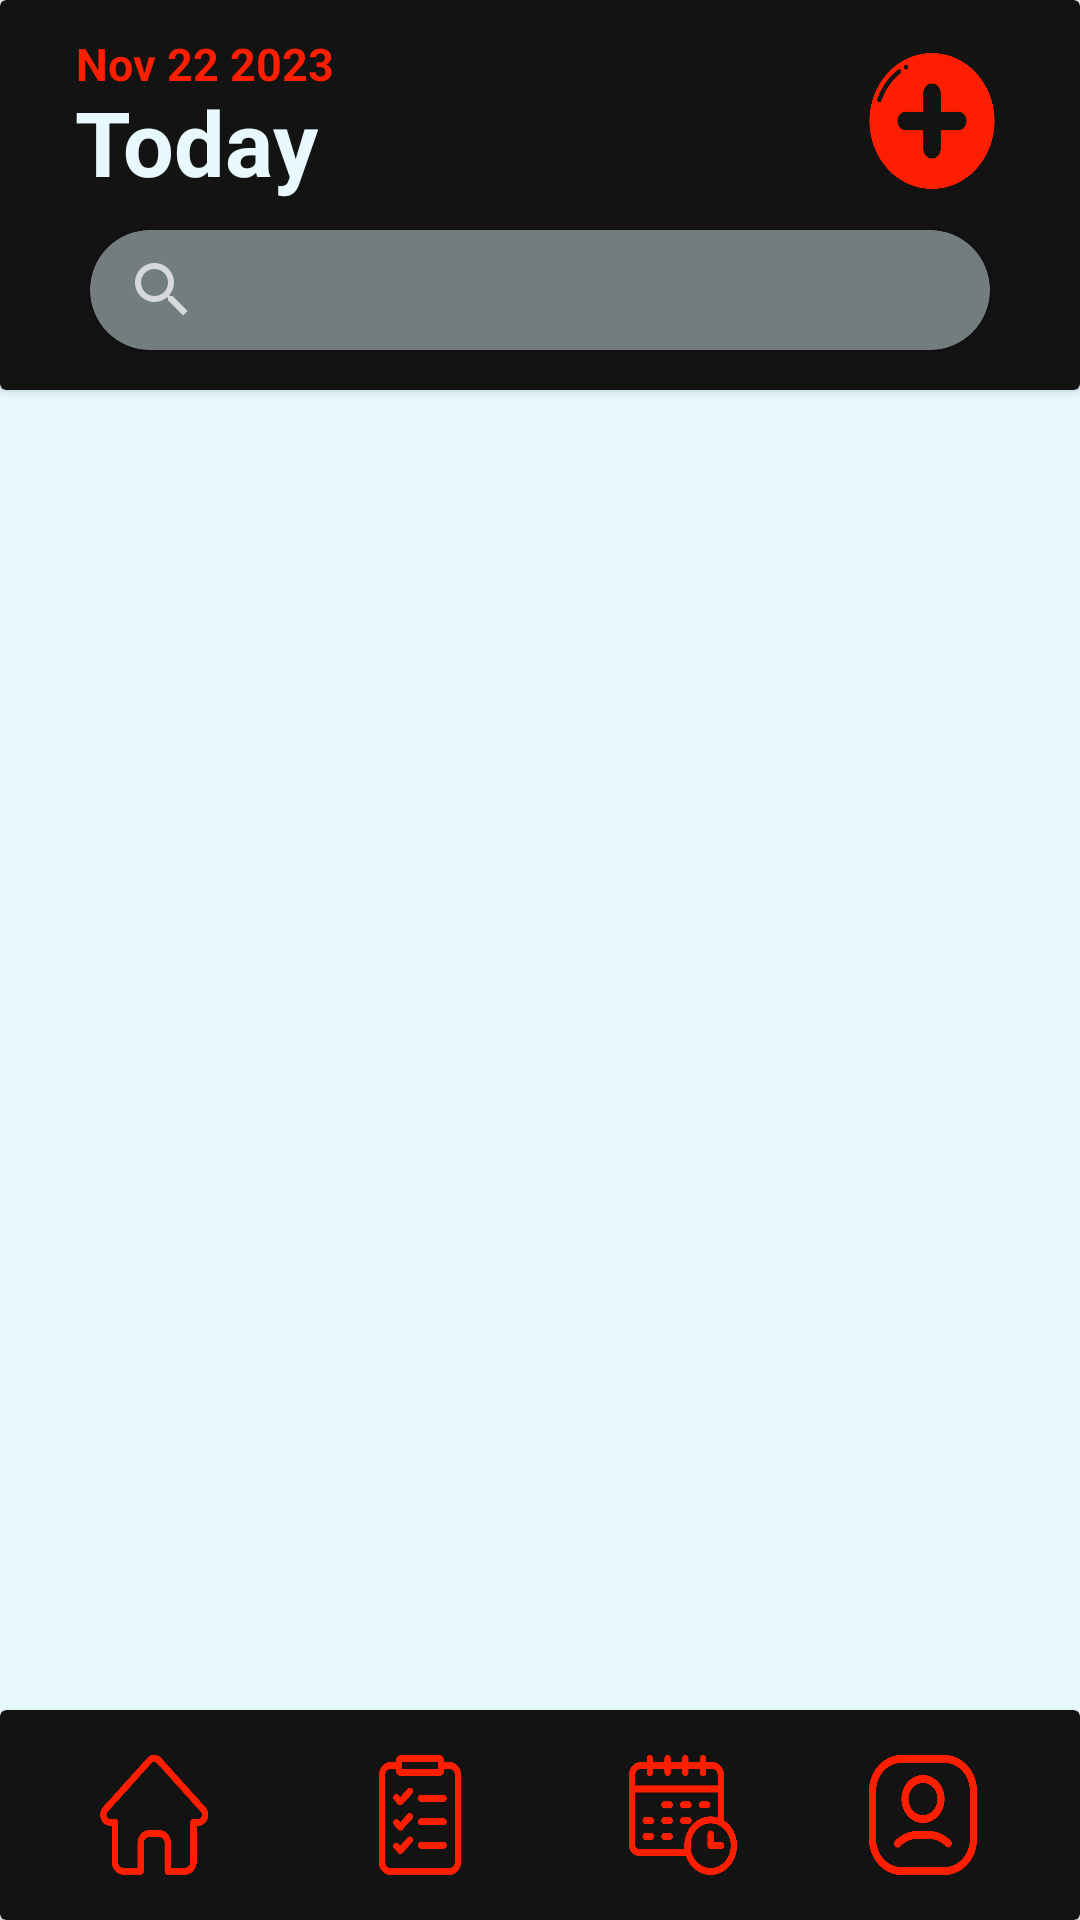

Screen size 1080×1920. Icon name, then its center in pixels as point (x, y):
addbtn: point (932, 121)
redhome: point (154, 1815)
redprofile: point (923, 1815)
redschedule: point (683, 1815)
redtodolist: point (420, 1815)
